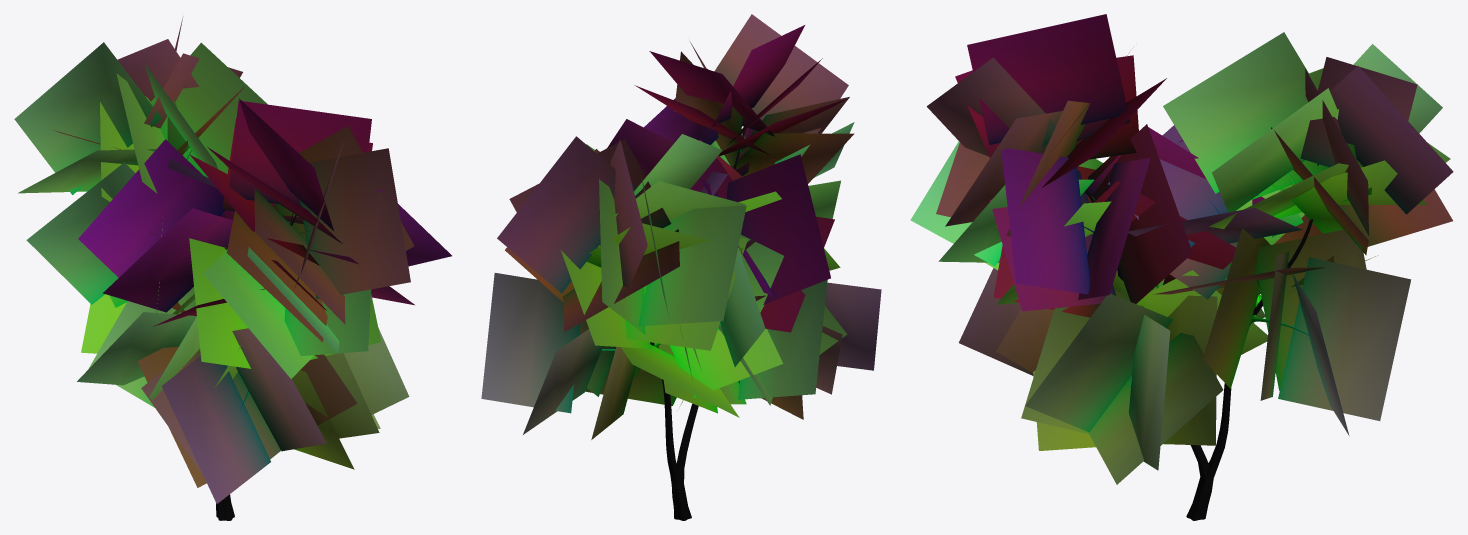
The model's file is URP_P15_Tree_4_LOD_0.fbx.
The picture shows the model from 3 angles, left to right: view 1: azimuth 30°, elevation 25°; view 2: azimuth 150°, elevation 25°; view 3: azimuth 270°, elevation 25°; orthographic projection. The views are drawn at different scales.
Visible parts, largest first — view 1: Tree_4_LOD_0; view 2: Tree_4_LOD_0; view 3: Tree_4_LOD_0.
Part boxes in pixels (box(x1,y1,x2,y2)): Tree_4_LOD_0: box(14, 16, 451, 520); Tree_4_LOD_0: box(481, 14, 881, 520); Tree_4_LOD_0: box(910, 14, 1453, 520).
Bounding box in the file's own units: 472 × 706 × 713.
